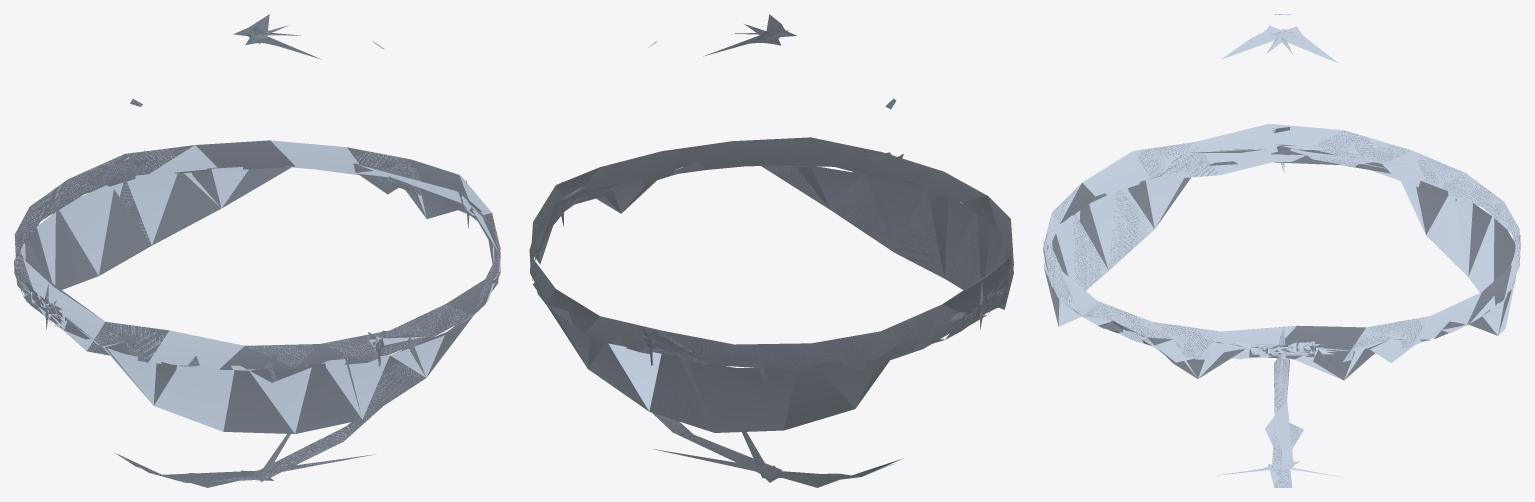
The model's file is stage9.glb.
3 views of the same model, side by side, from view 1: azimuth 30°, elevation 25°; view 2: azimuth 150°, elevation 25°; view 3: azimuth 270°, elevation 25° (orthographic). The views are drawn at different scales.
Visible parts, largest first — view 1: dsf-9-structural; view 2: dsf-9-structural; view 3: dsf-9-structural.
Part boxes in pixels (x1,y1,x2,y2): dsf-9-structural: [14, 14, 500, 487]; dsf-9-structural: [529, 14, 1014, 487]; dsf-9-structural: [1043, 14, 1520, 487].
Bounding box in the file's own units: 2 × 2 × 2.
